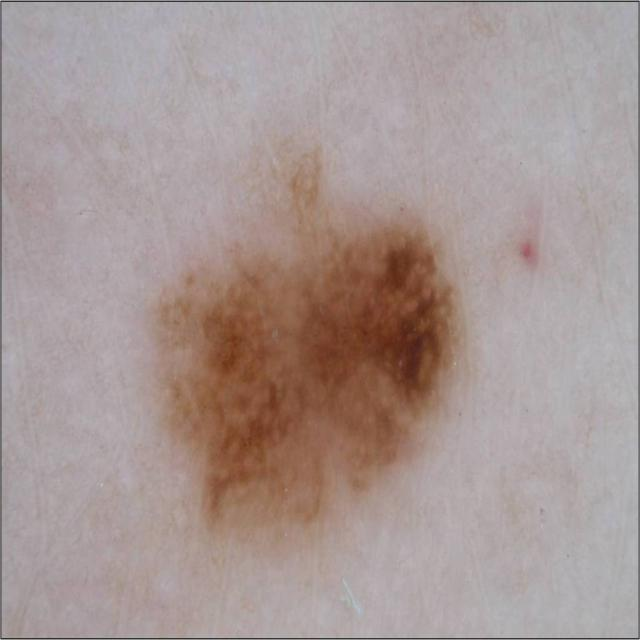Melanoma: (146, 135, 464, 547)
